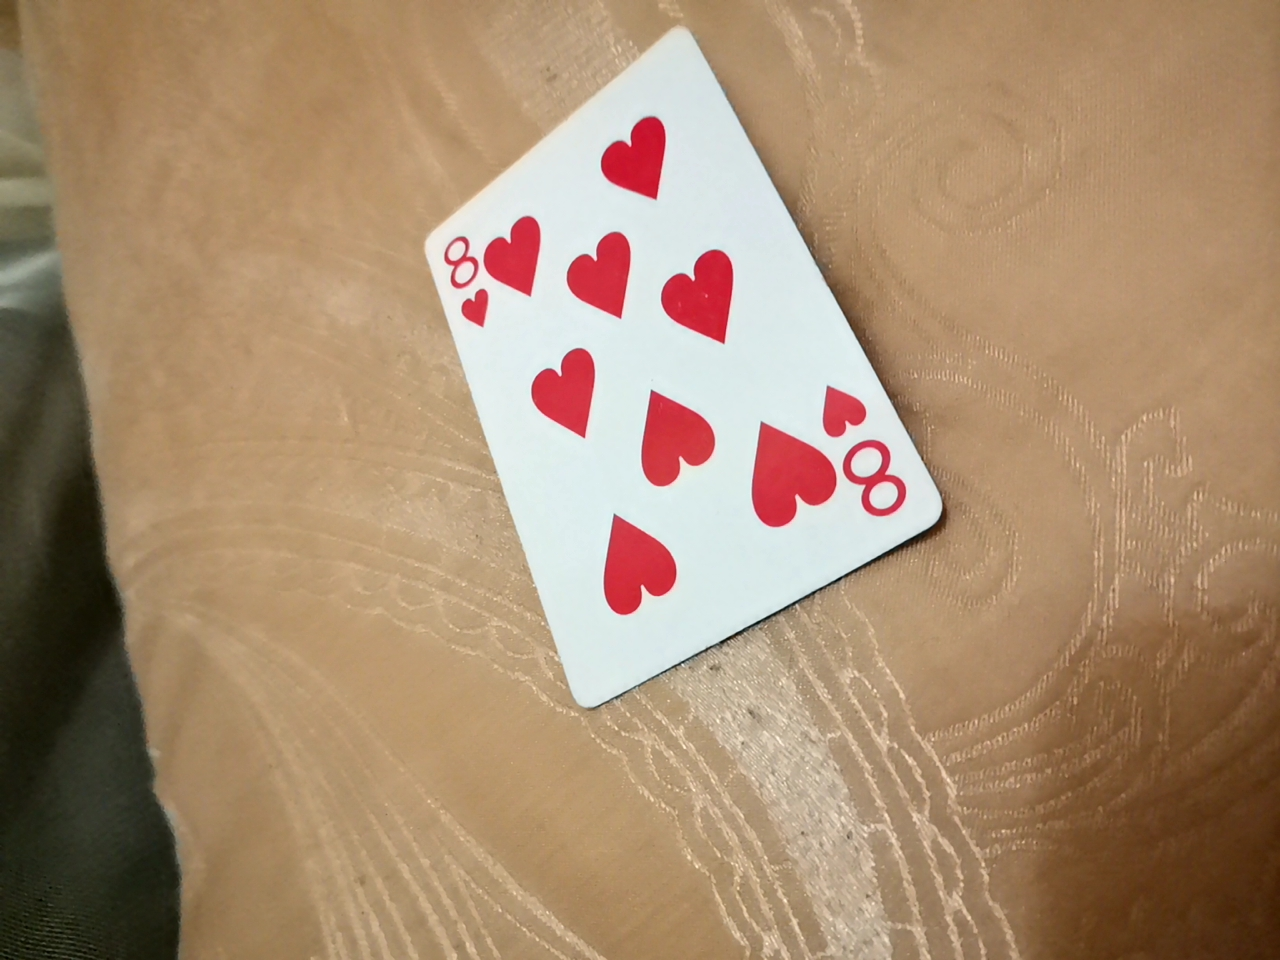hx 8: (414, 22, 934, 722)
